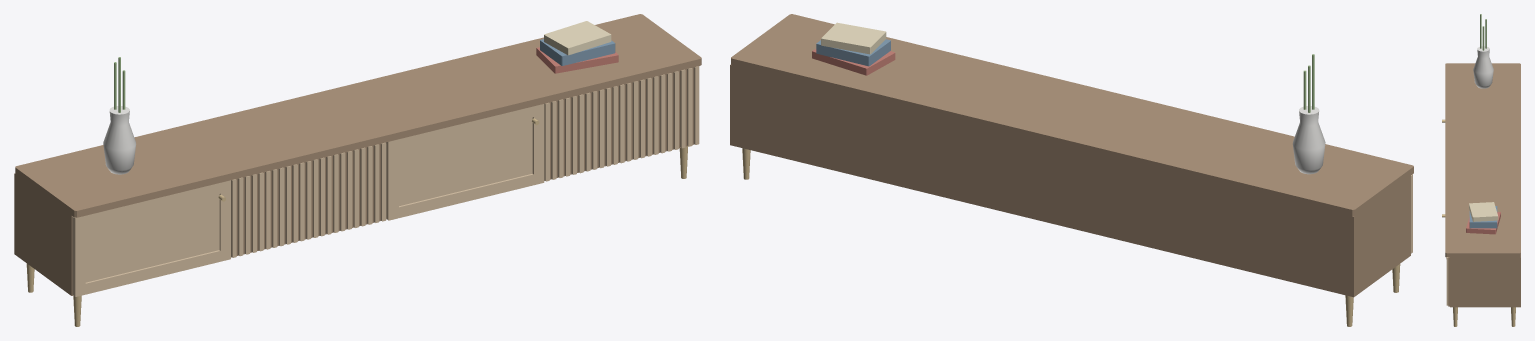
3 views of the same model, side by side, from view 1: azimuth 30°, elevation 25°; view 2: azimuth 150°, elevation 25°; view 3: azimuth 270°, elevation 25° (orthographic). The views are drawn at different scales.
Parts seen in each view (by area): view 1: Kệ tivi Dài=2400; Sâu=400; view 2: Kệ tivi Dài=2400; Sâu=400; view 3: Kệ tivi Dài=2400; Sâu=400.
Part boxes in pixels (x1=…): Kệ tivi Dài=2400; Sâu=400: x1=14, y1=14, x2=701, y2=326; Kệ tivi Dài=2400; Sâu=400: x1=730, y1=14, x2=1413, y2=326; Kệ tivi Dài=2400; Sâu=400: x1=1442, y1=14, x2=1520, y2=326.
Size of the model in its own units: 2.4 by 0.87 by 0.422.
